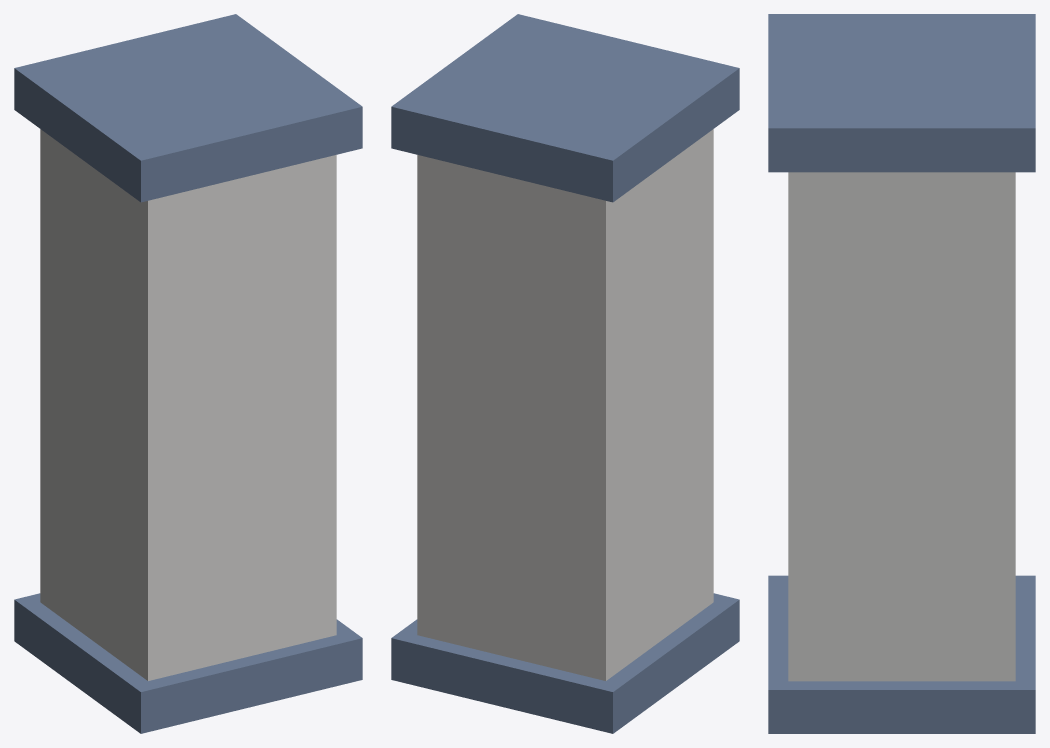
Rendered from 01_column.glb.
The picture shows the model from 3 angles, left to right: view 1: azimuth 30°, elevation 25°; view 2: azimuth 150°, elevation 25°; view 3: azimuth 270°, elevation 25°; orthographic projection. The views are drawn at different scales.
Parts seen in each view (by area): view 1: part_1.005, part_2.005, part_3.005; view 2: part_1.005, part_2.005, part_3.005; view 3: part_1.005, part_2.005, part_3.005.
Boxes of the visible parts, bbox=[...] form: part_1.005: bbox=[40, 129, 336, 680]; part_2.005: bbox=[14, 14, 362, 202]; part_3.005: bbox=[14, 593, 362, 733]; part_1.005: bbox=[417, 129, 713, 680]; part_2.005: bbox=[391, 14, 739, 202]; part_3.005: bbox=[391, 593, 739, 733]; part_1.005: bbox=[788, 172, 1015, 681]; part_2.005: bbox=[768, 14, 1035, 172]; part_3.005: bbox=[768, 575, 1035, 733].
Size of the model in its own units: 1.21 by 2.99 by 1.2.
